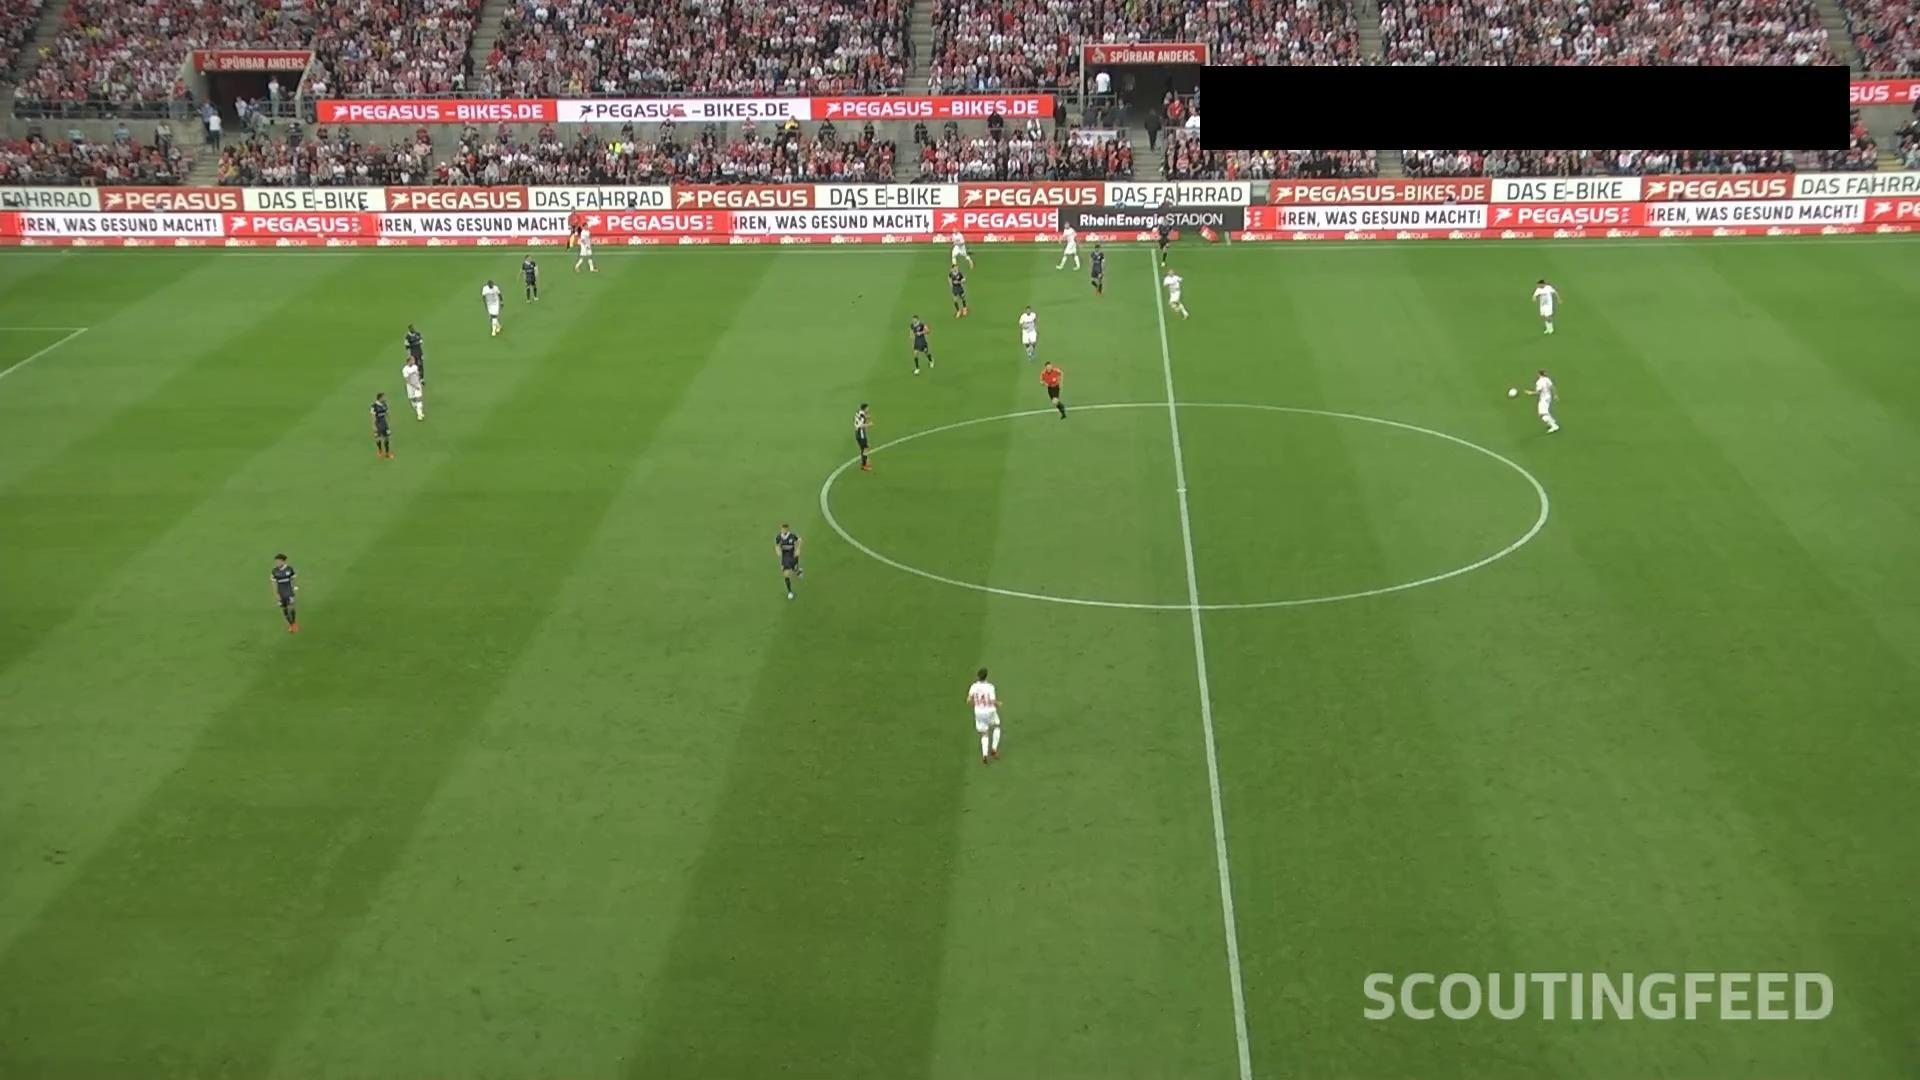ball: (1506, 388, 1519, 400)
